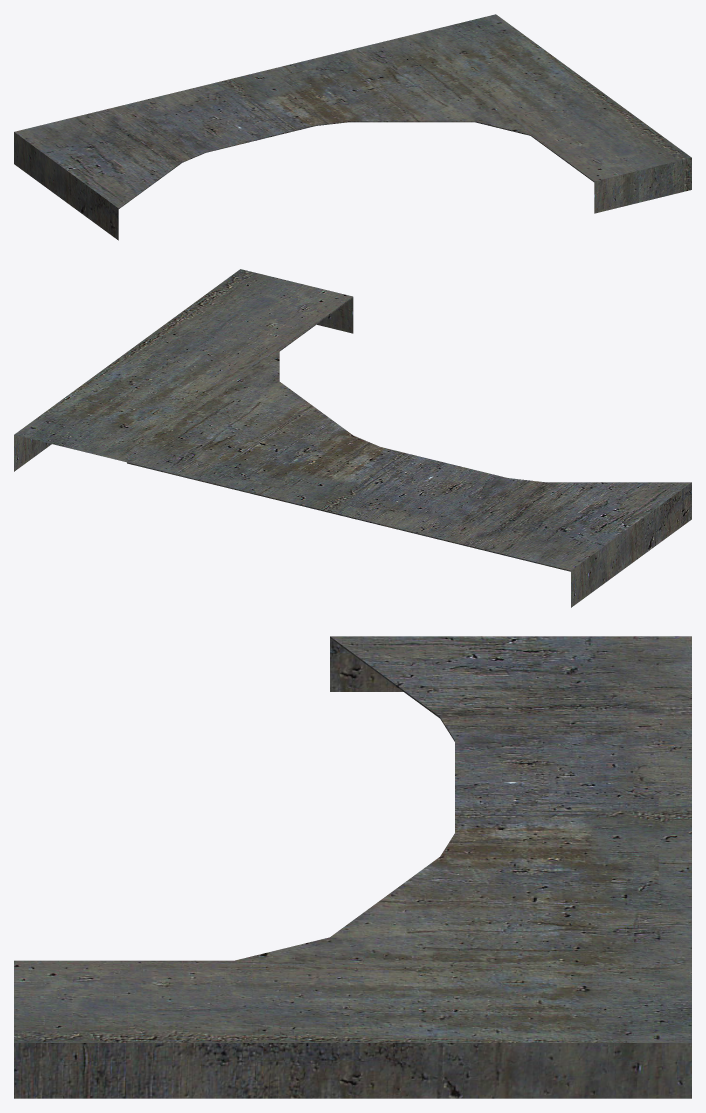
The model's file is Stand_ceiling_new.fbx.
3 renders of one model, top to bottom at view 1: azimuth 30°, elevation 25°; view 2: azimuth 150°, elevation 25°; view 3: azimuth 270°, elevation 25°, orthographic. The views are drawn at different scales.
Parts seen in each view (by area): view 1: Stand_celing; view 2: Stand_celing; view 3: Stand_celing.
Boxes of the visible parts, x1,y1,x2,y2 form: Stand_celing: [14, 14, 691, 240]; Stand_celing: [14, 269, 691, 607]; Stand_celing: [14, 636, 691, 1098].
Size of the model in its own units: 14151 by 904 by 9966.
